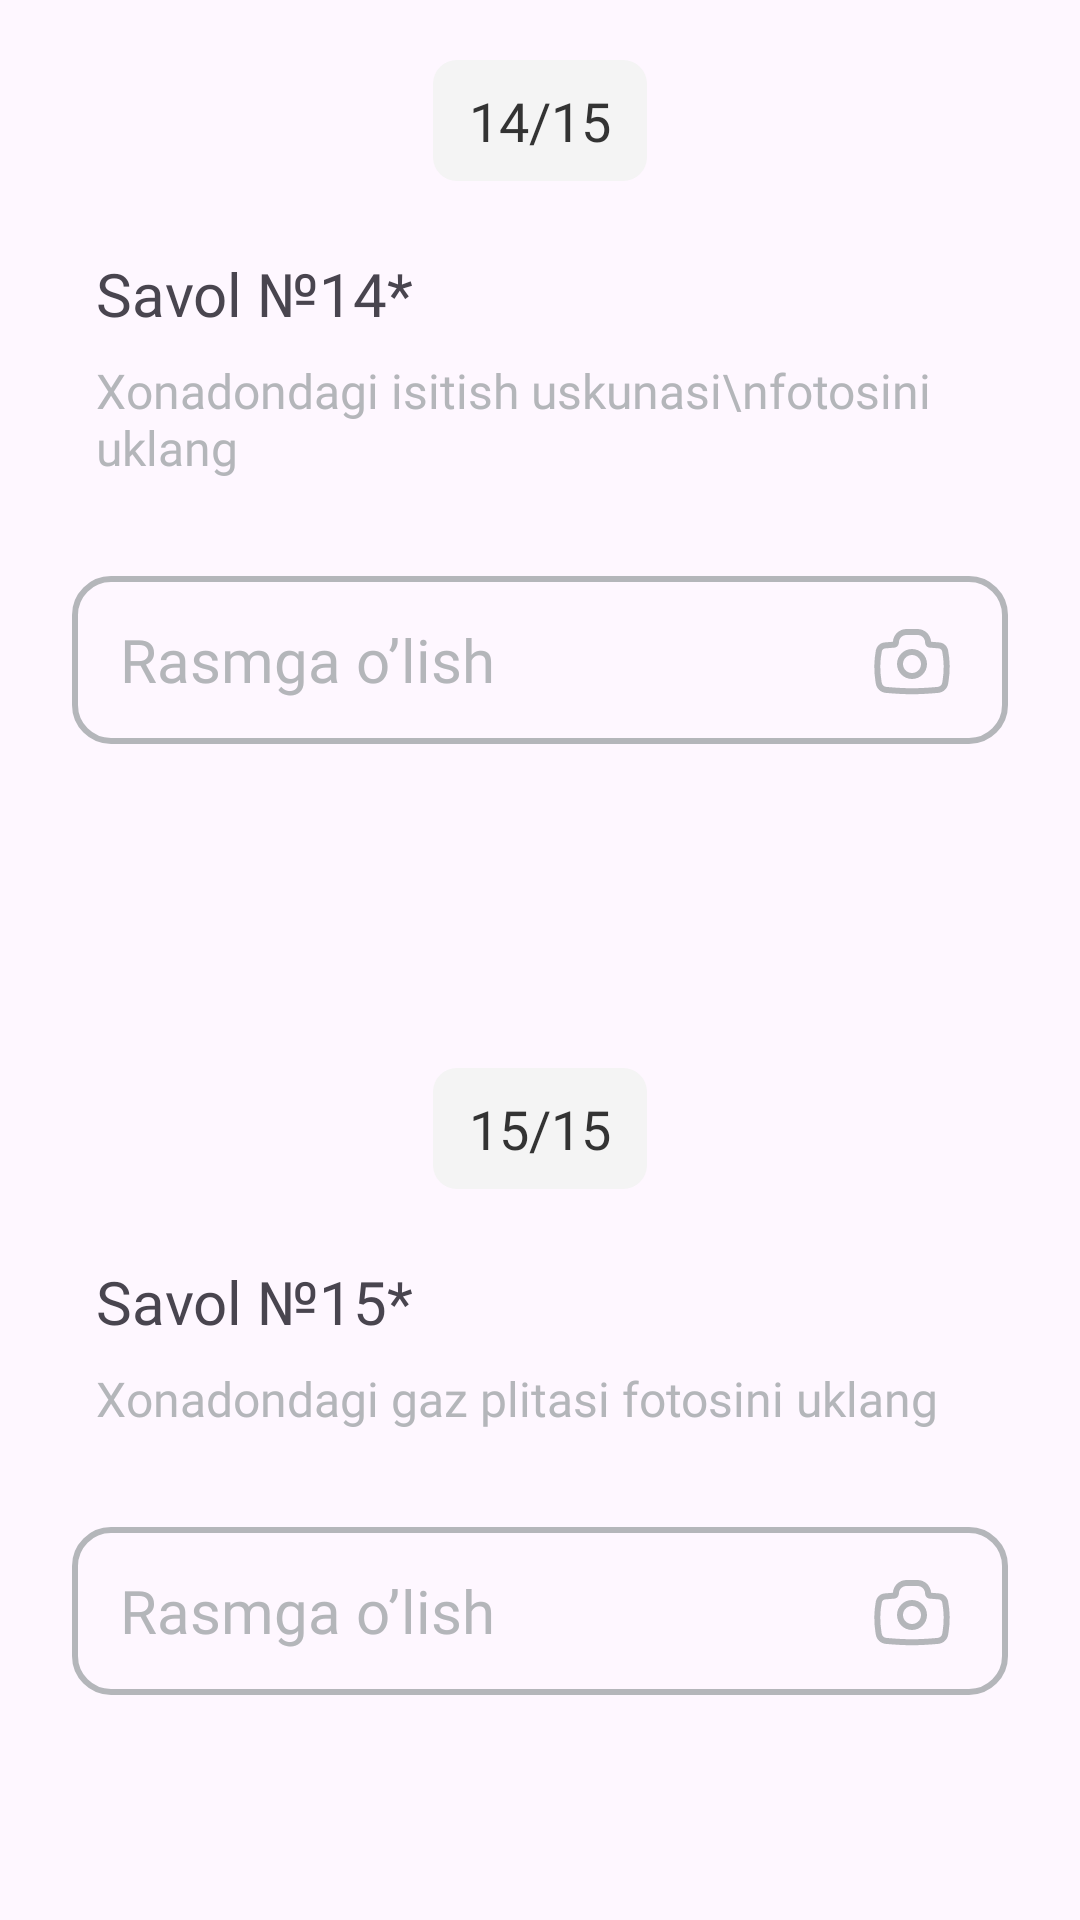

Icon click points for this 1080 × 1920 phone screenshot, format (x,y):
camera: (912,661), (912,1612)
